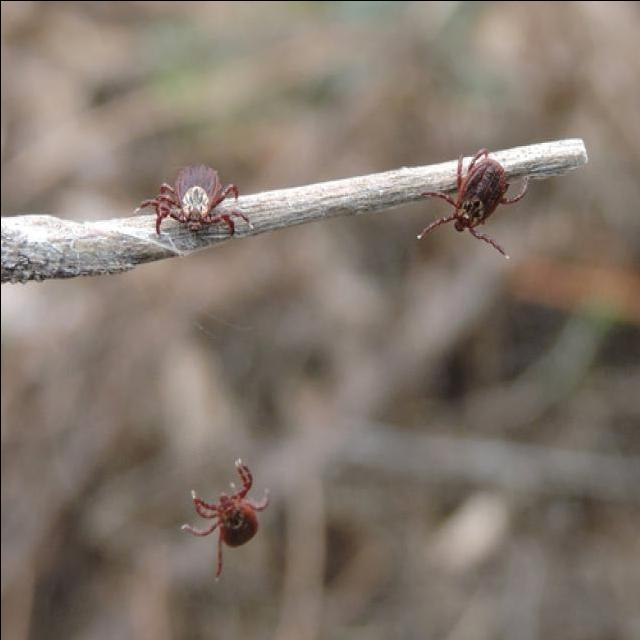Dermacentor Reticulatus-F: (416, 148, 513, 255), (184, 460, 270, 577), (140, 164, 251, 252)
